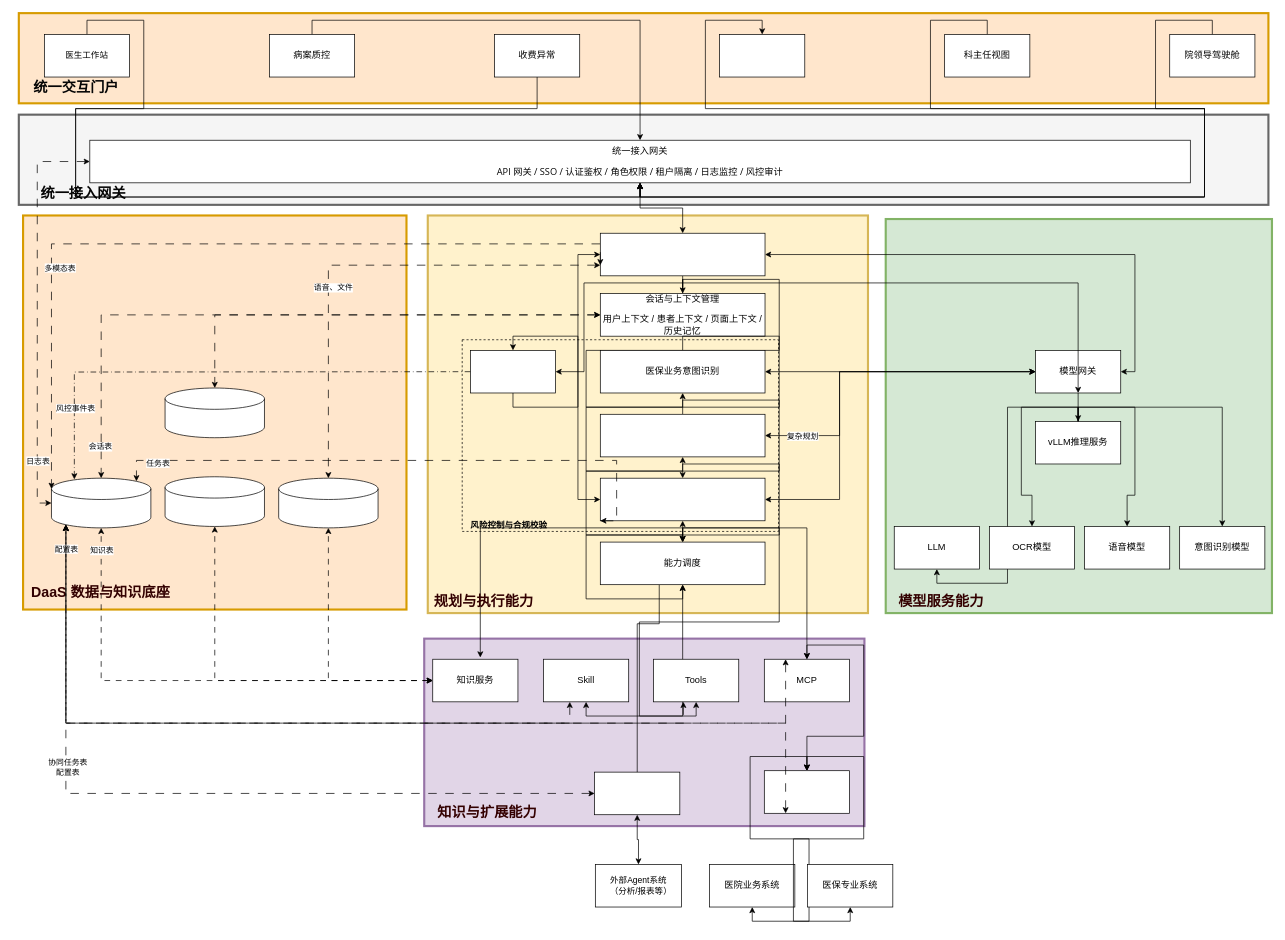
Some shapes in this 1285 by 940 pixel diagram are drawn without their labels. The centre of each missing label's shape, as x and y in pixels:
业务系统适配器: the point at 807,791
任务规划 查询 / 检索 / 规则解释 / 系统调用 / 材料生成 / 任务分派: the point at 682,435
医保办工作台: the point at 762,55
向量存储: the point at 214,501
文件存储: the point at 328,502
智能体协同（A2A）: the point at 637,793
结构化存储: the point at 101,502
结果生成与任务闭环: the point at 513,371
统一交互API: the point at 682,254
缓存: the point at 214,412
编排执行引擎: the point at 682,499
